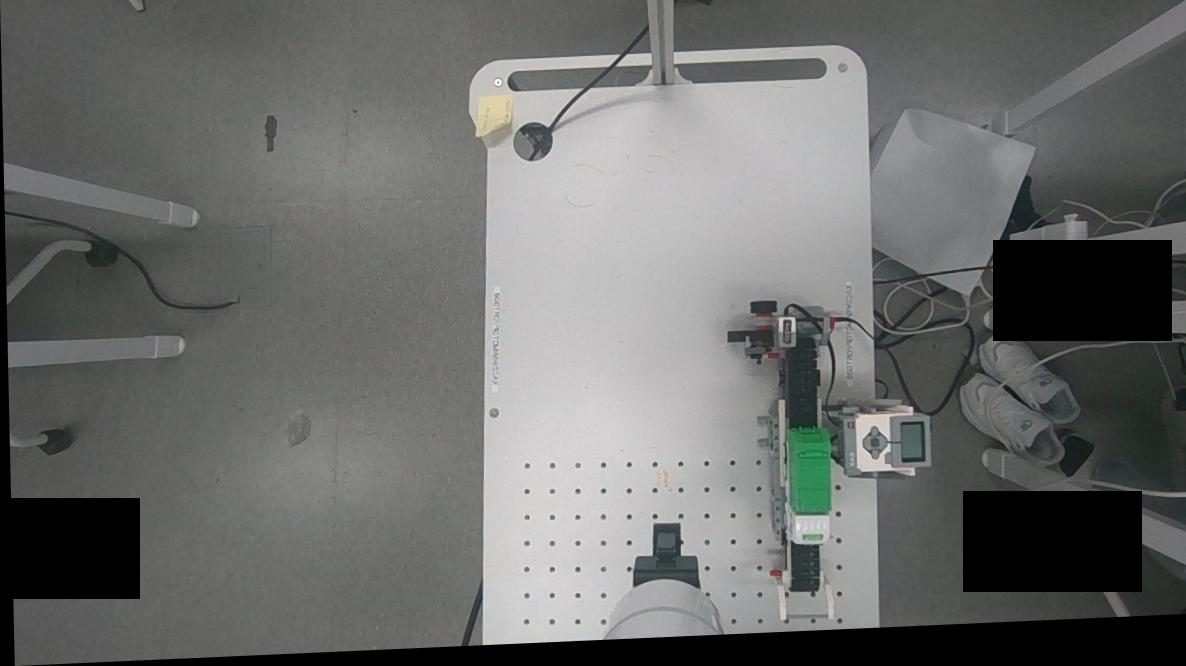truck: (768, 422, 837, 552)
